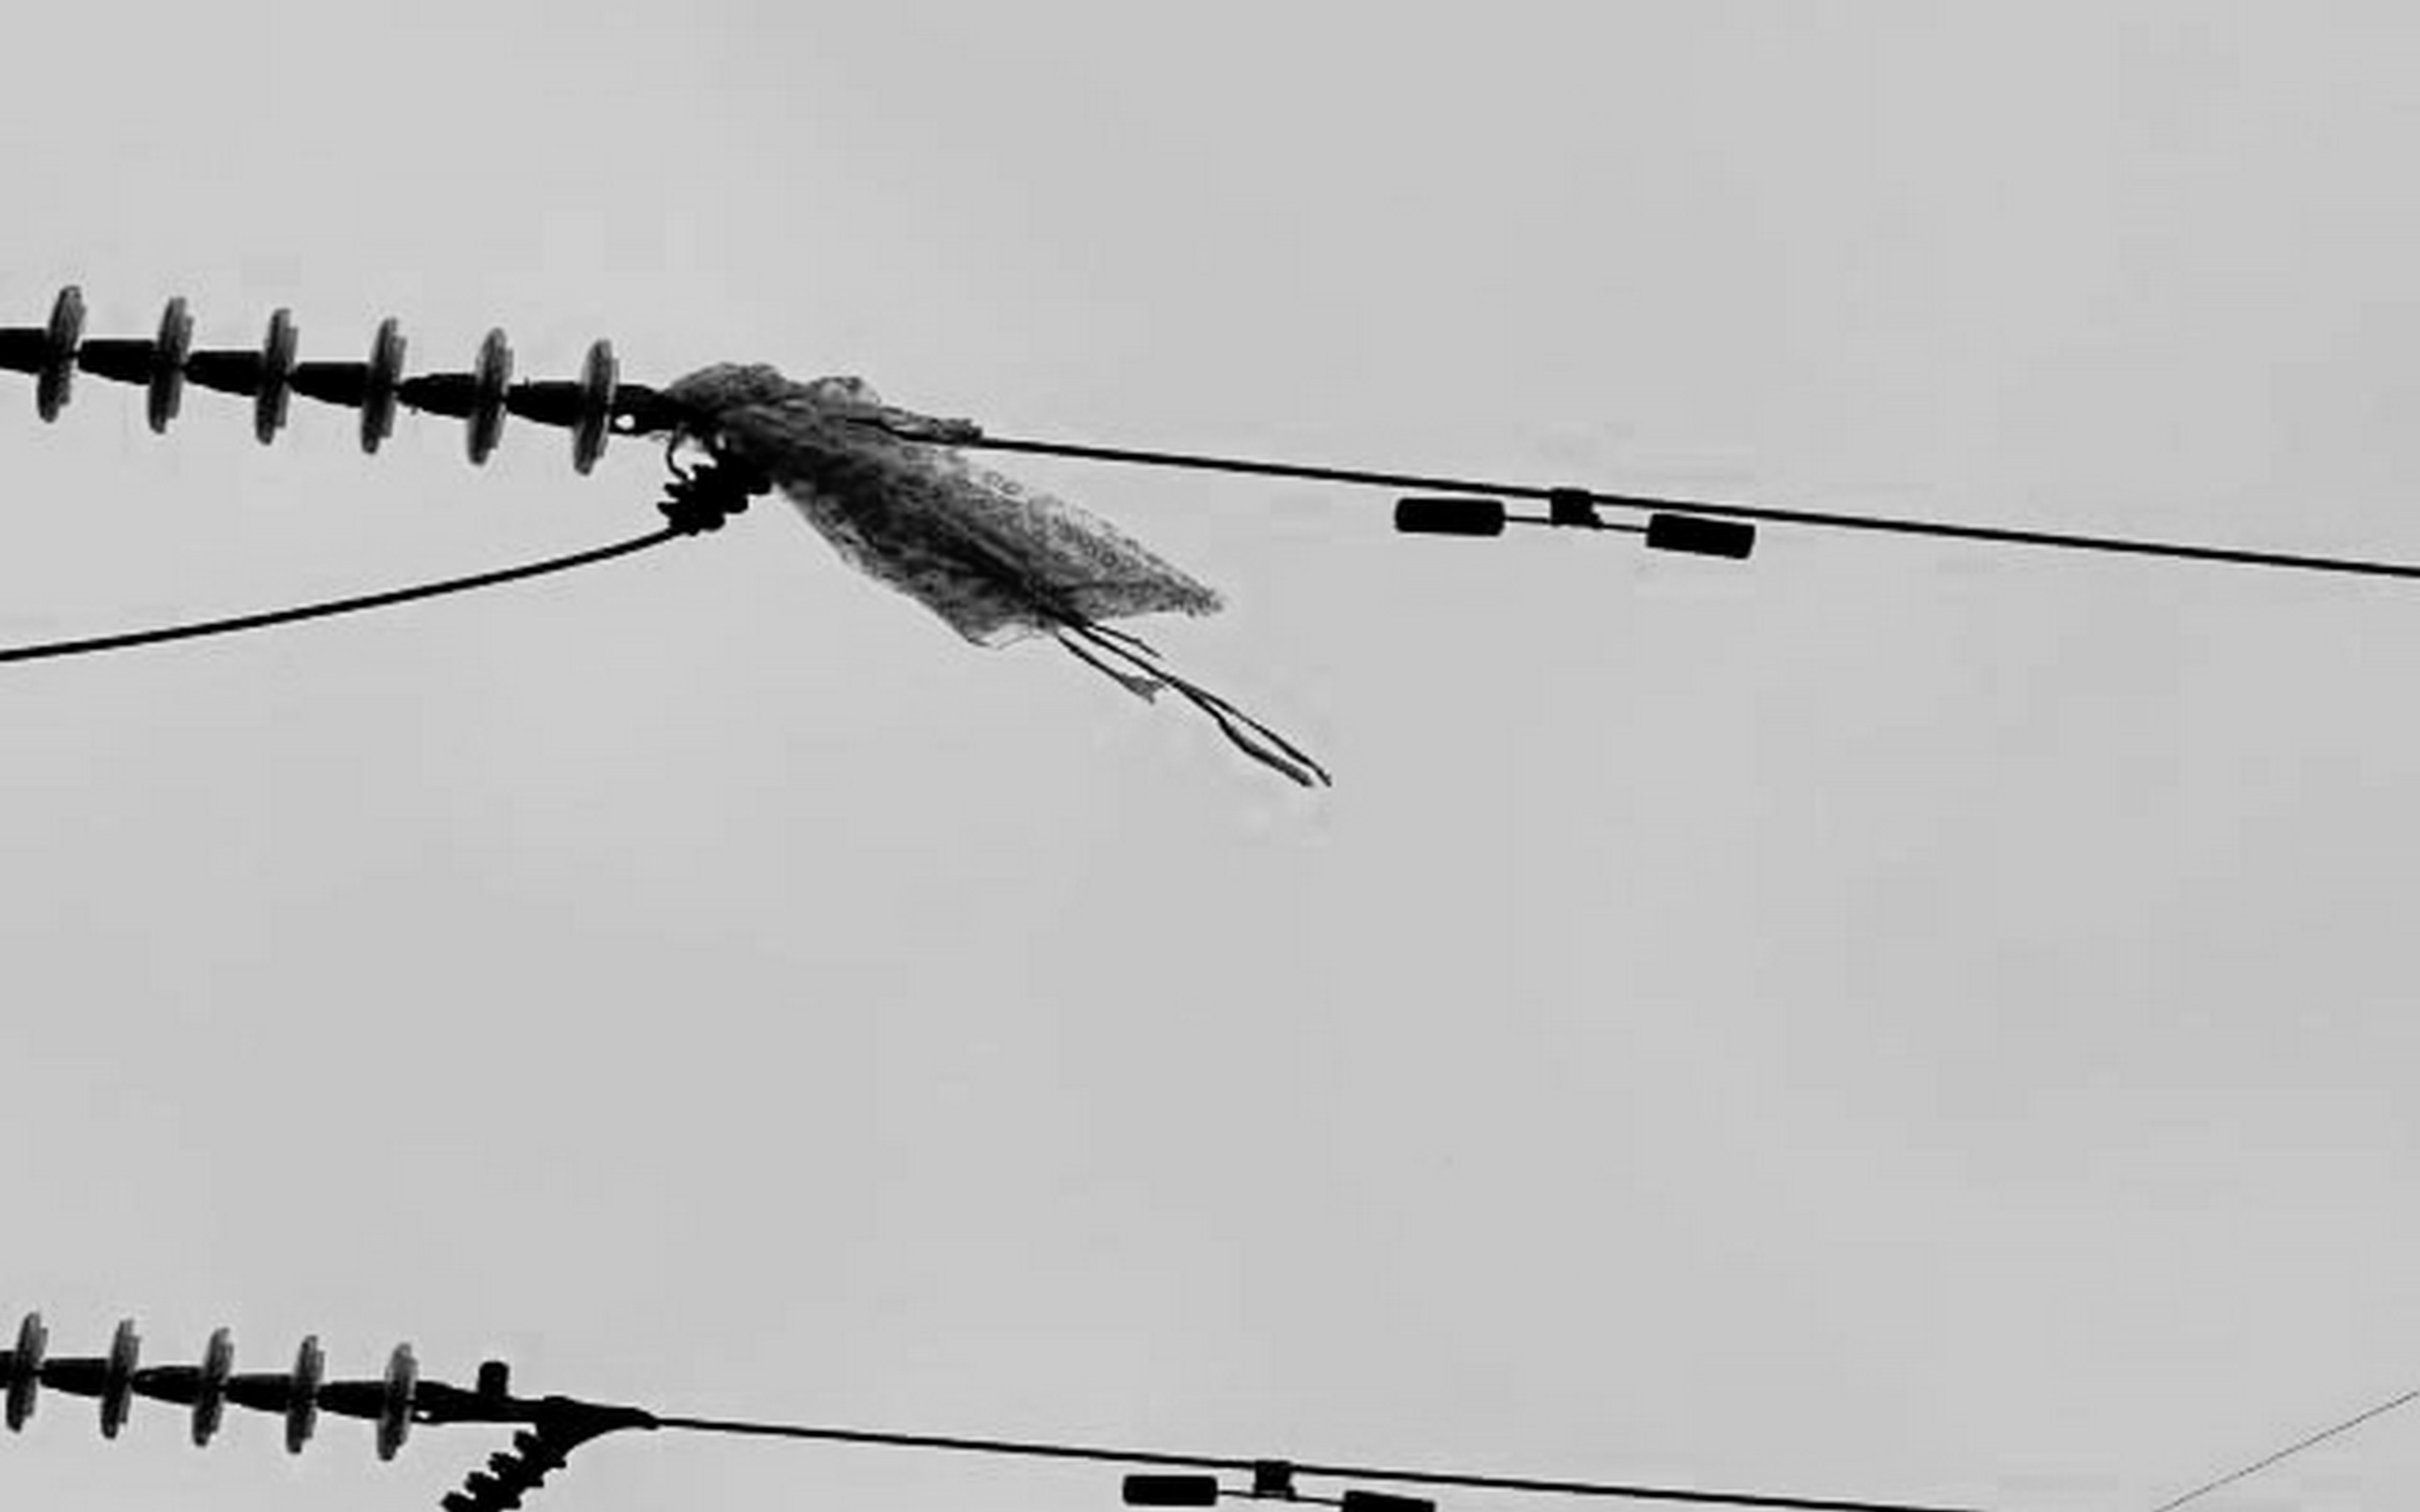wire foreign body: (648, 327, 1336, 793)
